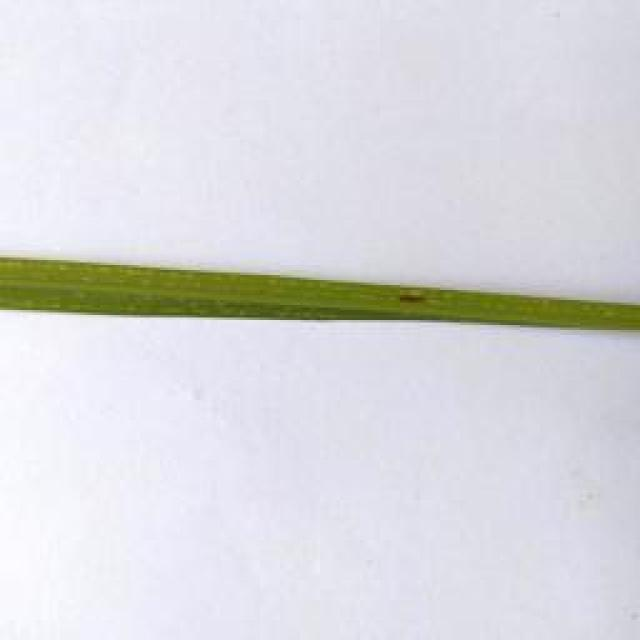Brown_Spot: (396, 288, 430, 312)
